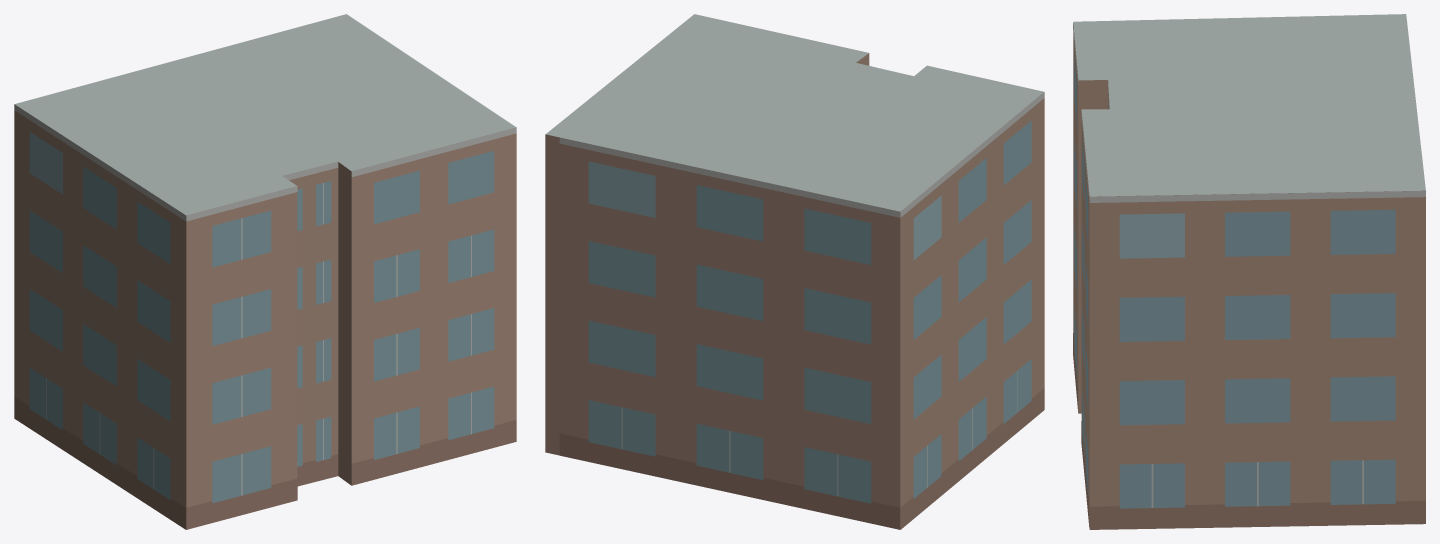
The model's file is survey-upis-32743159.glb.
The picture shows the model from 3 angles, left to right: view 1: azimuth 30°, elevation 25°; view 2: azimuth 150°, elevation 25°; view 3: azimuth 270°, elevation 25°; orthographic projection. The views are drawn at different scales.
Visible parts, largest first — view 1: survey-upis-32743159.tmp; view 2: survey-upis-32743159.tmp; view 3: survey-upis-32743159.tmp.
Part boxes in pixels (x1,y1,x2,y2): survey-upis-32743159.tmp: [14, 14, 516, 529]; survey-upis-32743159.tmp: [545, 14, 1044, 529]; survey-upis-32743159.tmp: [1073, 14, 1425, 529].
Size of the model in its own units: 14.93 by 12.7 by 12.19.
